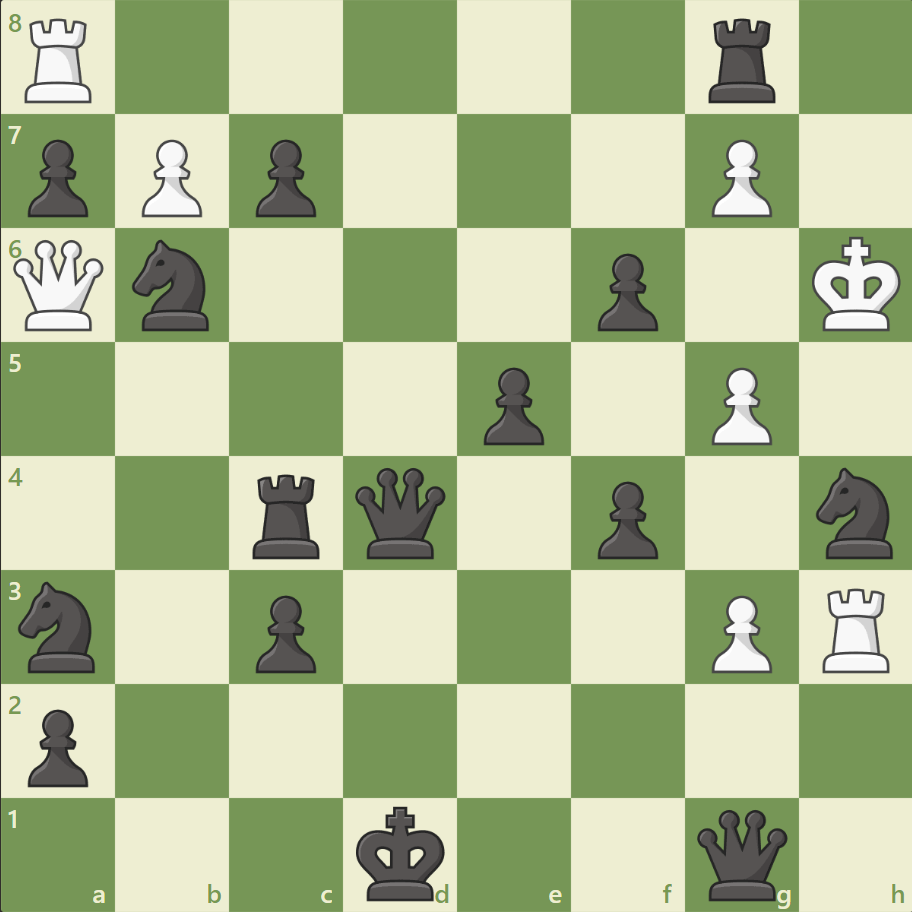K: (806, 231, 906, 339)
P: (133, 132, 208, 223), (701, 132, 776, 223), (701, 359, 776, 450), (701, 586, 776, 677)
Q: (10, 236, 109, 335)
R: (19, 12, 102, 109), (814, 579, 897, 676)
k: (351, 798, 451, 906)
n: (124, 234, 222, 337), (806, 461, 903, 564), (11, 575, 108, 677)
p: (20, 132, 95, 223), (247, 132, 322, 223), (474, 359, 549, 450), (247, 586, 322, 677), (20, 700, 95, 791), (588, 246, 662, 337), (588, 473, 662, 564)
q: (351, 463, 450, 562), (691, 804, 790, 903)
r: (700, 12, 783, 109), (246, 466, 329, 563)
